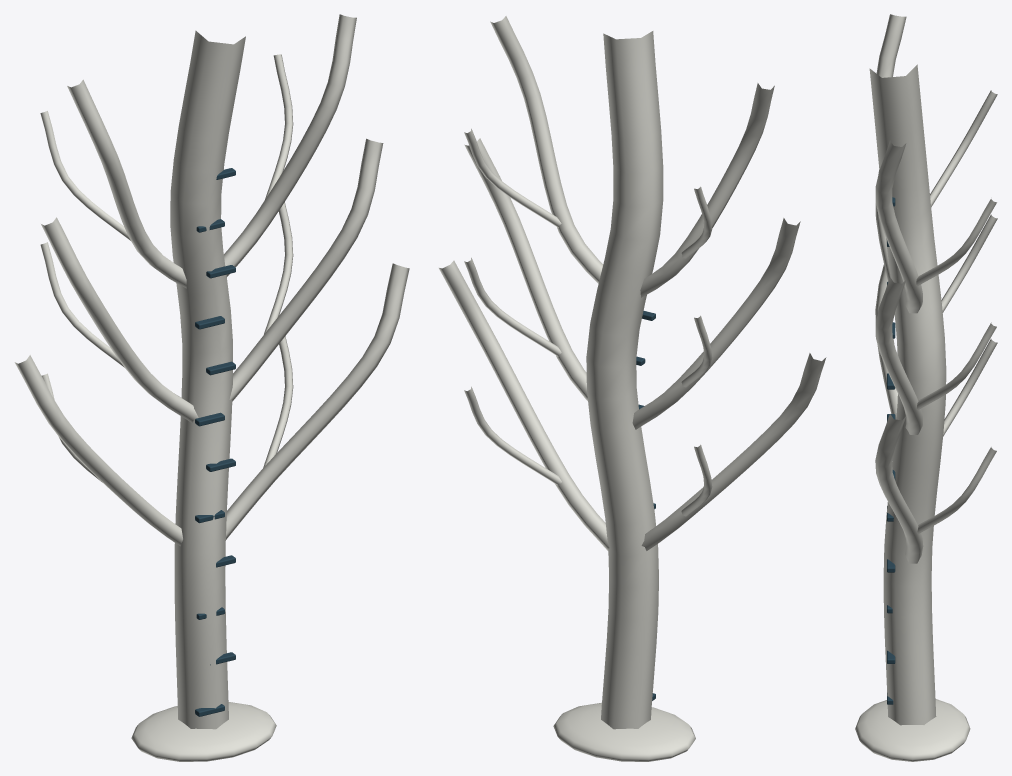
Rendered from storybook-christmas-market-winter-birch-28303021__19691.glb.
The picture shows the model from 3 angles, left to right: view 1: azimuth 30°, elevation 25°; view 2: azimuth 150°, elevation 25°; view 3: azimuth 270°, elevation 25°; orthographic projection. The views are drawn at different scales.
Parts seen in each view (by area): view 1: winter-birch; view 2: winter-birch; view 3: winter-birch.
Boxes of the visible parts, x1,y1,x2,y2 form: winter-birch: [14, 14, 409, 761]; winter-birch: [439, 16, 826, 761]; winter-birch: [855, 14, 997, 761].
Bounding box in the file's own units: 1.78 × 3.13 × 0.5942.
